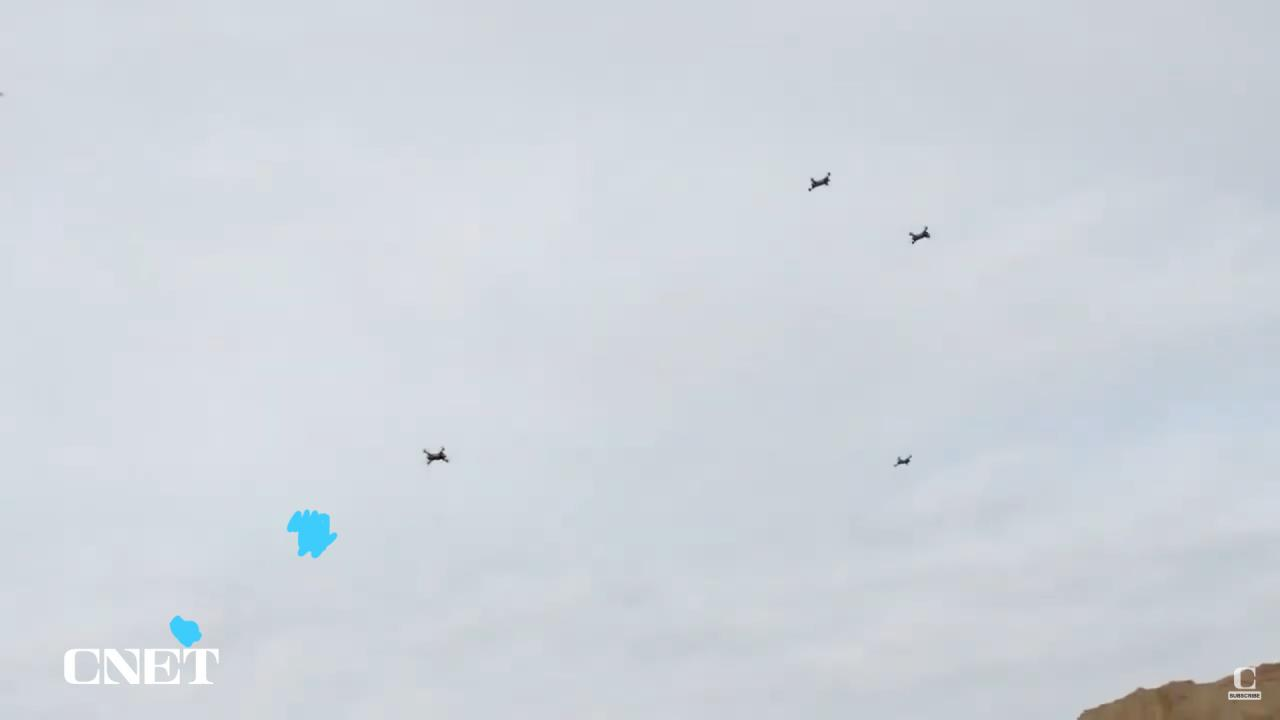Drone: (412, 436, 460, 475), (798, 164, 841, 200), (899, 216, 940, 252), (887, 447, 919, 476)
